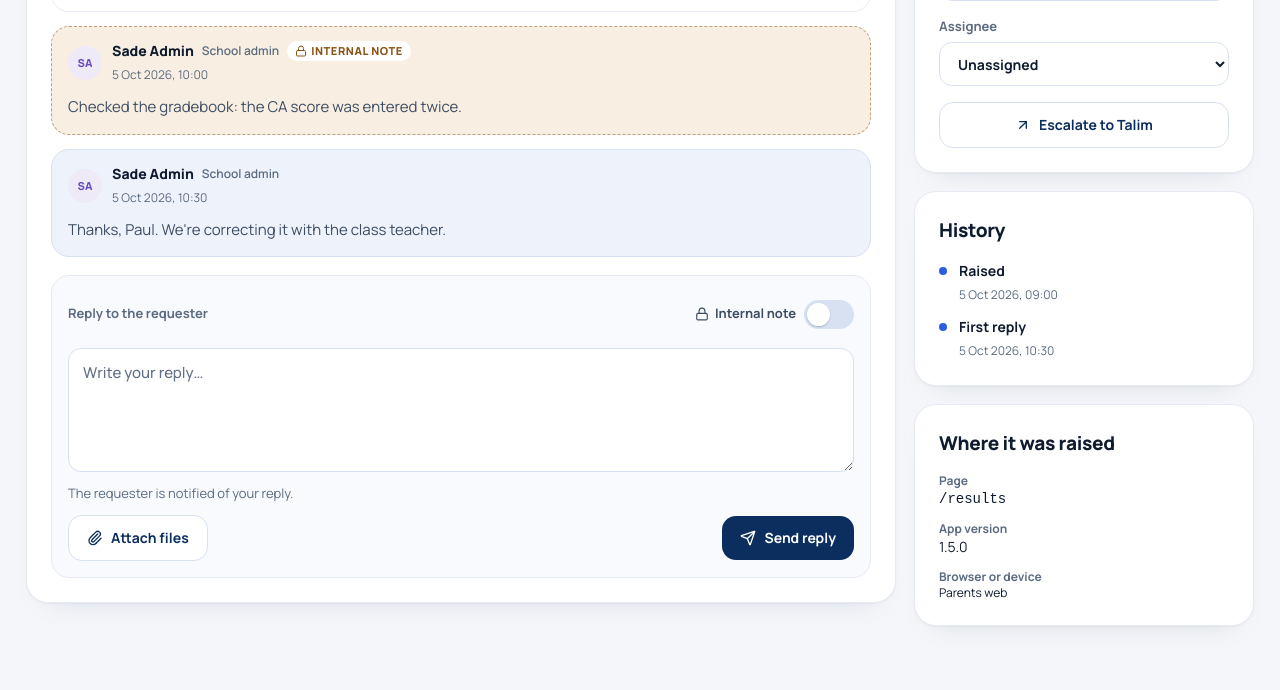
desk flows › an empty reply is not sent
(page scrolled)
Click the button "Send reply" at (788, 538), box [722,516,854,560]
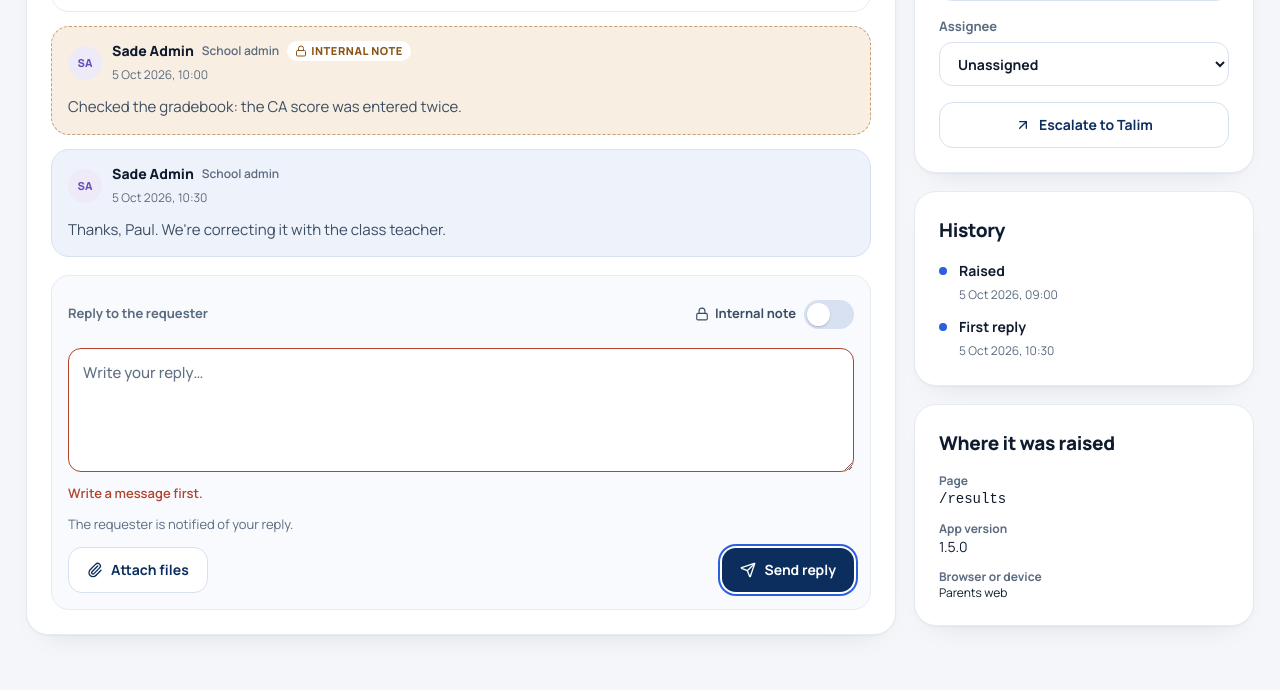
Expected: the message reads "Write a message first.", [68,484,203,502]
